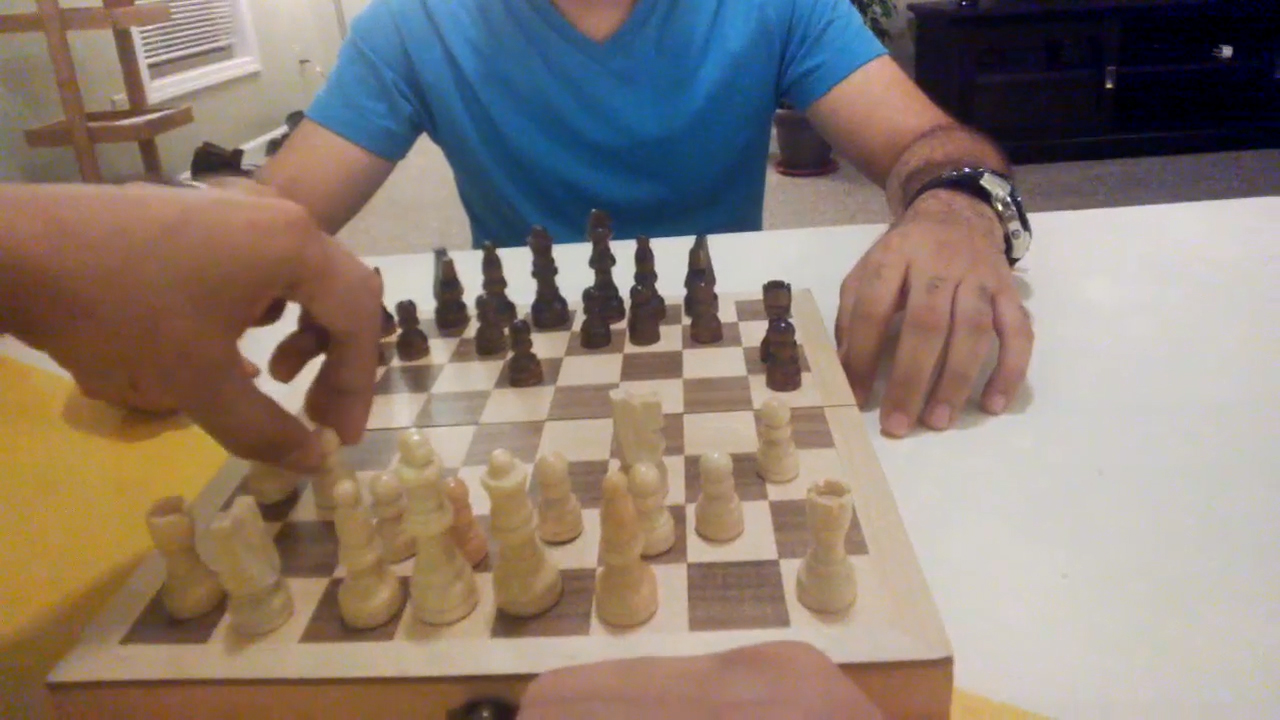hand: (0, 184, 380, 472), (839, 228, 1033, 434), (519, 641, 894, 718), (51, 351, 169, 419)
